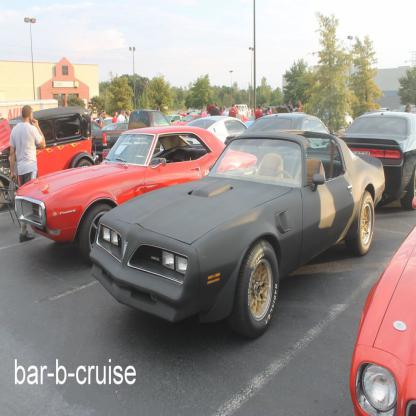Car: (0, 103, 416, 416)
